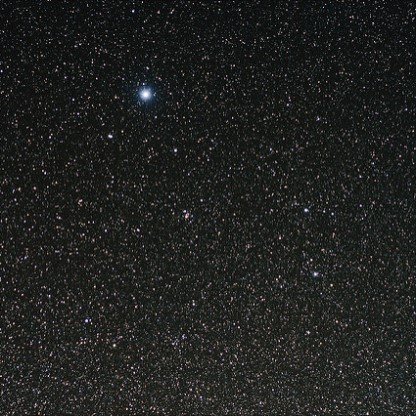Lyra: (134, 80, 157, 107), (294, 201, 315, 218), (168, 142, 186, 159), (305, 264, 323, 279), (103, 129, 116, 148), (180, 207, 192, 223)
